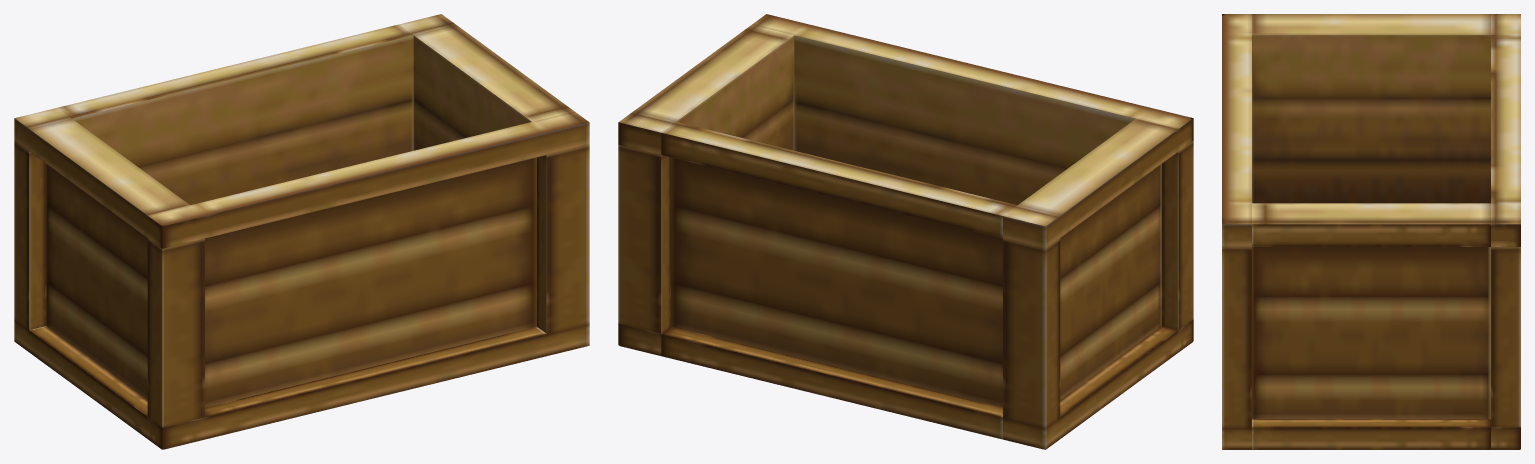
The model's file is Inside_Poly_Crate_02.obj.
3 renders of one model, left to right at view 1: azimuth 30°, elevation 25°; view 2: azimuth 150°, elevation 25°; view 3: azimuth 270°, elevation 25°, orthographic.
Visible parts, largest first — view 1: Cube; view 2: Cube; view 3: Cube.
Boxes of the visible parts, x1,y1,x2,y2 form: Cube: (14, 14, 589, 449); Cube: (618, 14, 1193, 449); Cube: (1222, 14, 1520, 449).
Size of the model in its own units: 1 by 0.5 by 0.6.
Materials: 1 (1 with a texture image).
